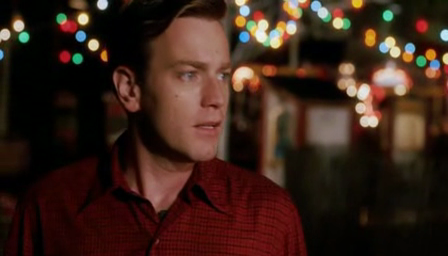cu: (1, 1, 448, 256)
face: (156, 33, 233, 163)
person: (1, 1, 308, 256)
